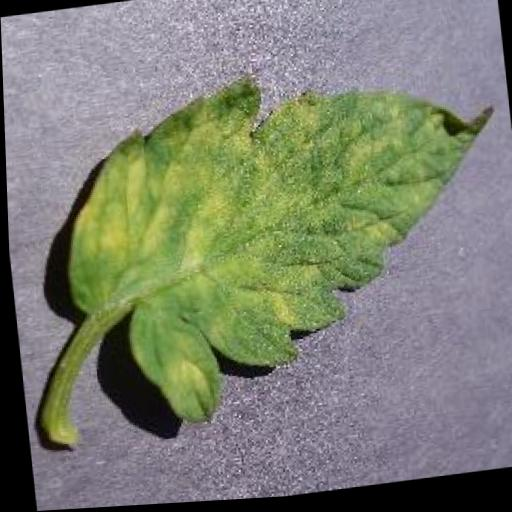Leaf Mold: (45, 49, 512, 443)
